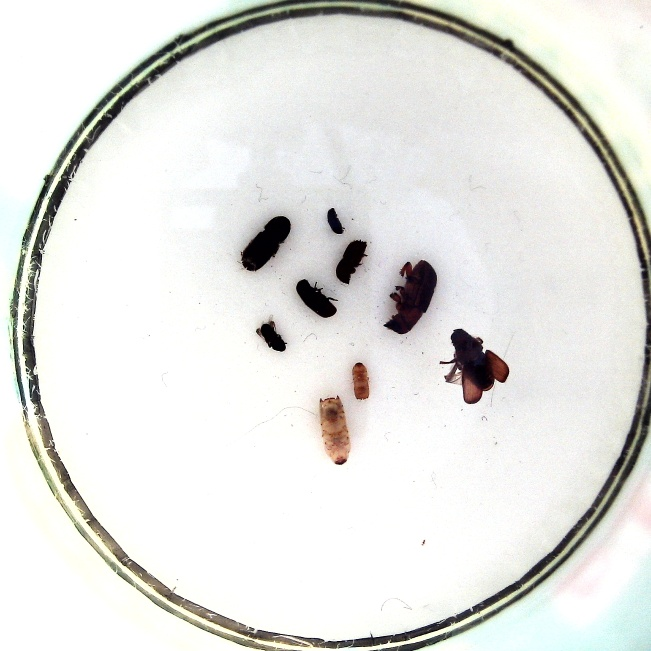acuminatus: (348, 359, 375, 402)
armandi: (291, 278, 342, 319)
boerner: (315, 394, 354, 468)
coleoptera: (253, 313, 291, 354), (323, 206, 348, 236)
leconte: (437, 326, 512, 406), (380, 256, 440, 336), (237, 212, 294, 274)
linnaeus: (333, 238, 372, 285)
